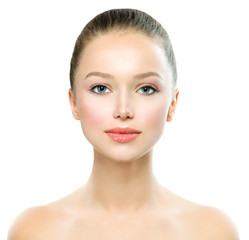teen: (69, 26, 179, 165)
